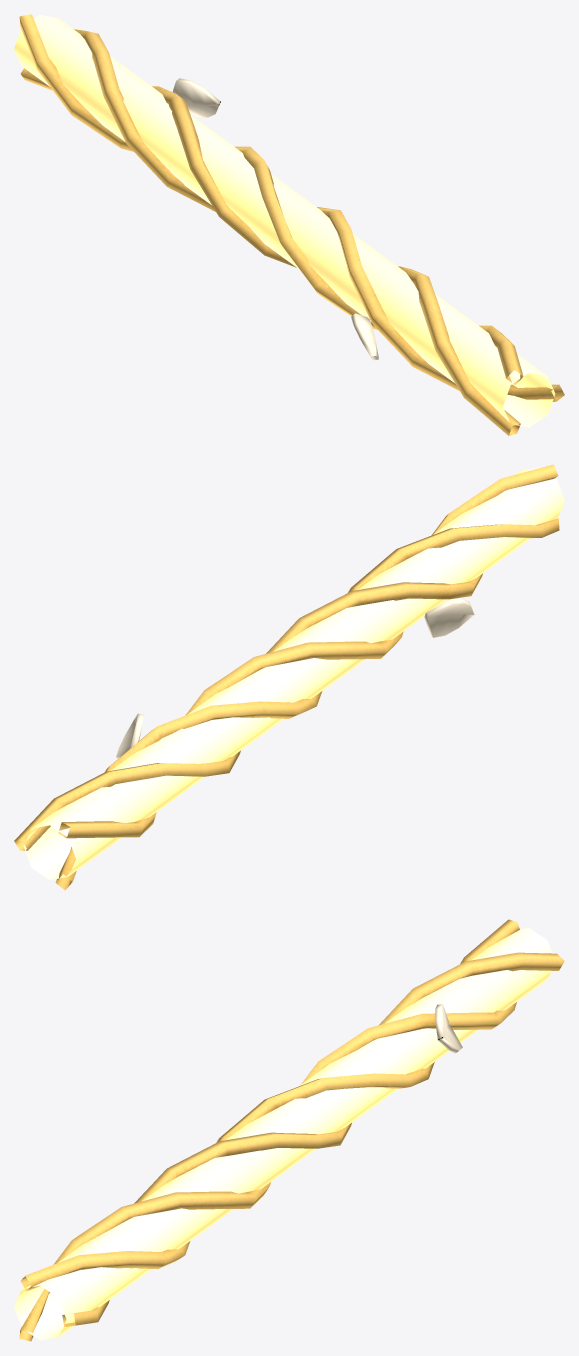
Rendered from VesperCord.glb.
3 renders of one model, top to bottom at view 1: azimuth 30°, elevation 25°; view 2: azimuth 150°, elevation 25°; view 3: azimuth 330°, elevation 25°, orthographic.
Visible parts, largest first — view 1: VesperCord; view 2: VesperCord; view 3: VesperCord.
Part boxes in pixels (left/top/right/bottom): VesperCord: left=14, top=14, right=564, bottom=435; VesperCord: left=14, top=464, right=564, bottom=890; VesperCord: left=14, top=919, right=564, bottom=1341.
Bounding box in the file's own units: 0.1198 × 0.094 × 1.01.
Materials: 1 (1 with a texture image).
